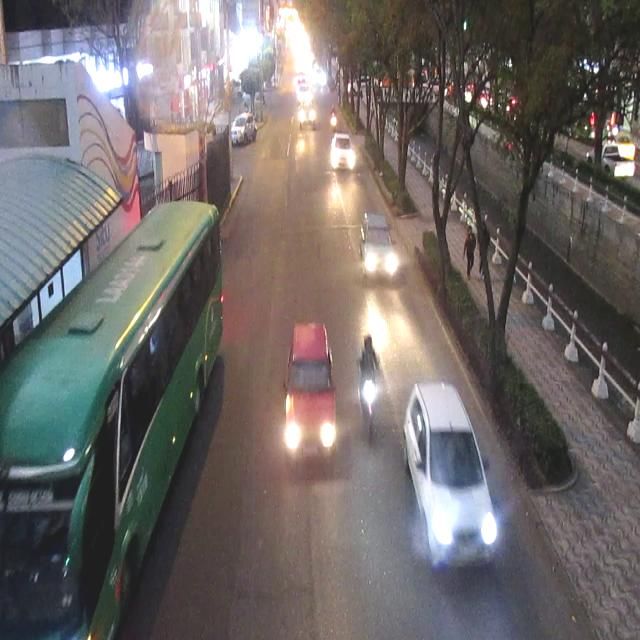BUS: (4, 202, 227, 640)
MOTORCYCLE: (358, 367, 377, 439), (329, 106, 336, 129)
SED: (334, 136, 354, 169)
SUV: (406, 382, 501, 560), (286, 321, 340, 466), (232, 116, 257, 146)
